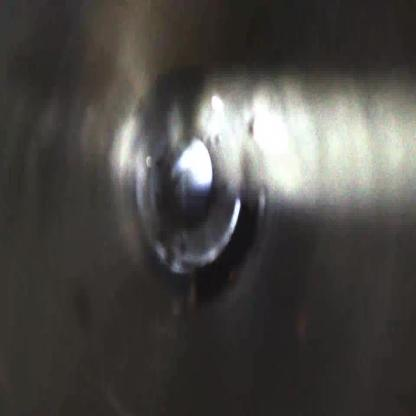Crack2: (192, 194, 268, 308)
